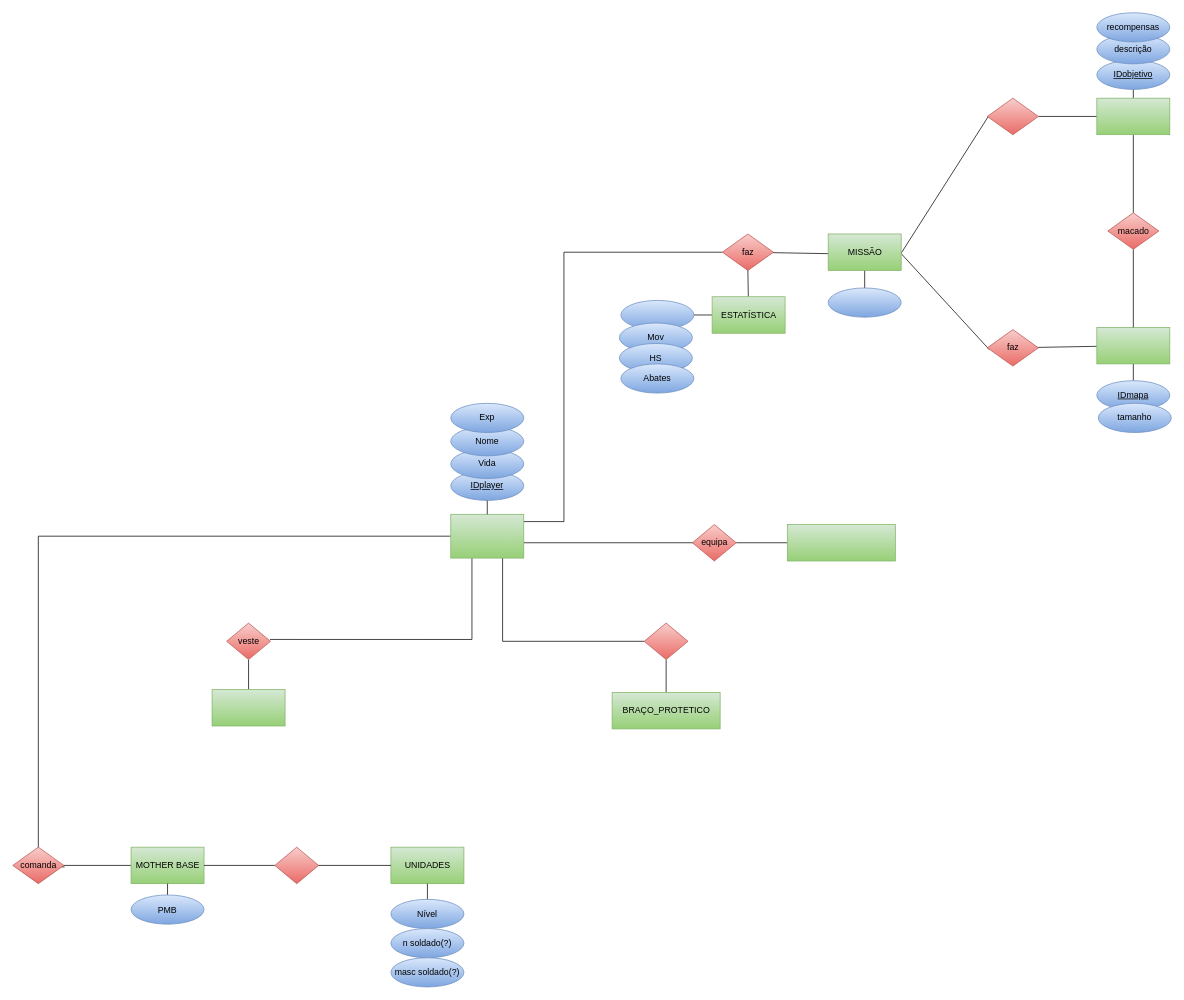
Image size: 1184x1000. Some labels were removed from this diagram. The centre of each missing label's shape, as x and y in pixels:
"ARMA_DE_FOGO" goes at (x=841, y=542).
"IDestatistica" goes at (x=657, y=315).
"IDmissao" goes at (x=864, y=302).
"Mapa" goes at (x=1133, y=345).
"Objetivos" goes at (x=1133, y=116).
"Player" goes at (x=487, y=536).
"possui" goes at (x=1012, y=116).
"tem" goes at (x=296, y=865).
"UNIFORME" goes at (x=248, y=707).
"usa" goes at (x=665, y=641).
